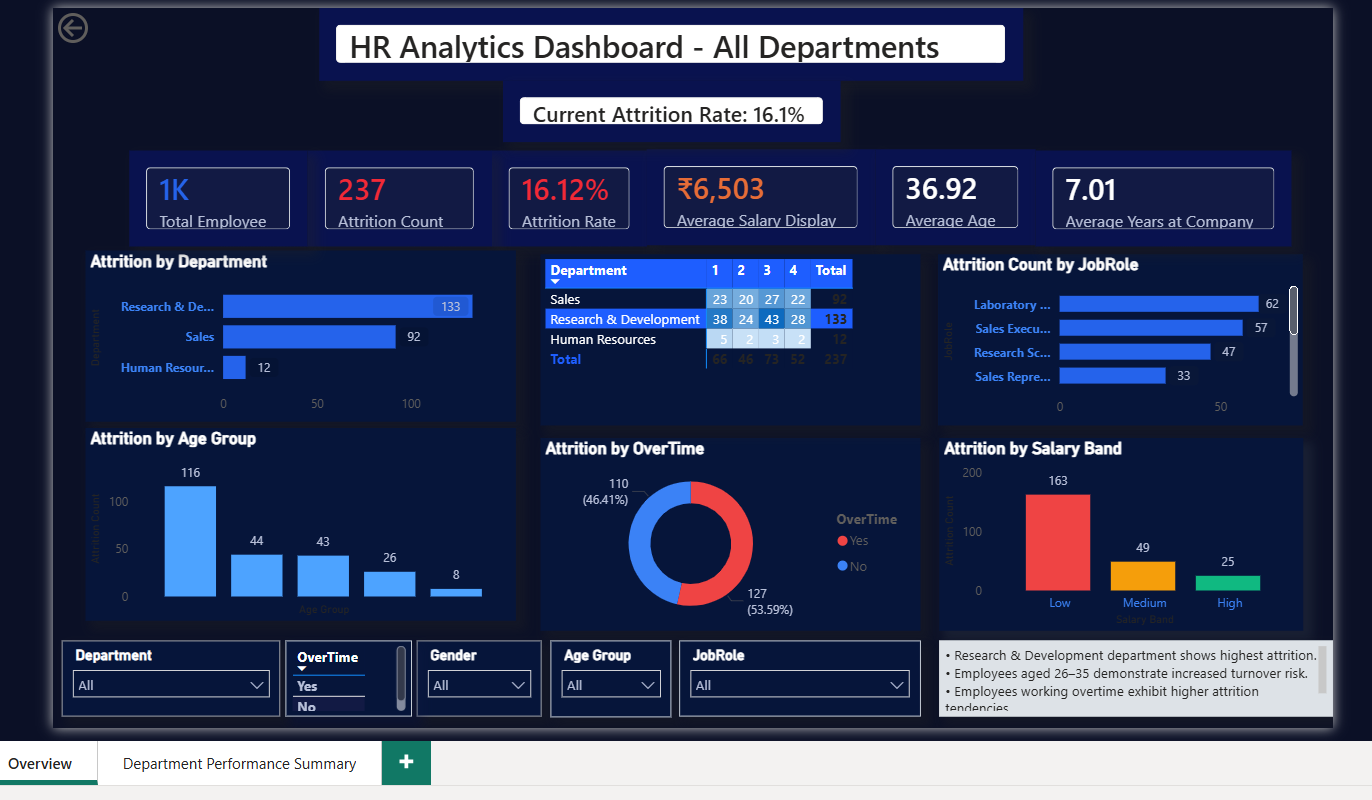

The dashboard page shown, as its layout file describes it:
{"tool":"powerbi","page":{"name":"Overview","canvas":[1280,720],"ordinal":0},"visuals":[{"type":"cardVisual","fields":{"Data":["WA_Fn-UseC_-HR-Employee-Attrition[1].Attrition Rate"]},"box":[438.8,142.5,155,96.2],"z":0},{"type":"cardVisual","fields":{"Data":["WA_Fn-UseC_-HR-Employee-Attrition[1].Attrition Count"]},"box":[255,142.5,183.8,96.2],"z":2000},{"type":"cardVisual","fields":{"Data":["WA_Fn-UseC_-HR-Employee-Attrition[1].Average Salary Display"]},"box":[593.8,141.2,167.5,96.2],"z":3000},{"type":"cardVisual","fields":{"Data":["WA_Fn-UseC_-HR-Employee-Attrition[1].Average Age"]},"box":[761.2,142.5,160,96.2],"z":4000},{"type":"clusteredBarChart","title":"Attrition by Department","fields":{"Category":["WA_Fn-UseC_-HR-Employee-Attrition[1].Department"],"Y":["WA_Fn-UseC_-HR-Employee-Attrition[1].Attrition Count"]},"box":[32.5,242.5,430,171.2],"z":5000},{"type":"clusteredBarChart","fields":{"Category":["WA_Fn-UseC_-HR-Employee-Attrition[1].JobRole"],"Y":["WA_Fn-UseC_-HR-Employee-Attrition[1].Attrition Count"]},"box":[885,246.2,365,171.2],"z":6000},{"type":"clusteredColumnChart","title":"Attrition by Age Group","fields":{"Category":["WA_Fn-UseC_-HR-Employee-Attrition[1].Age Group"],"Y":["WA_Fn-UseC_-HR-Employee-Attrition[1].Attrition Count"]},"box":[32.5,420,430,192.5],"z":7000},{"type":"pieChart","title":"Attrition by OverTime","fields":{"Y":["WA_Fn-UseC_-HR-Employee-Attrition[1].Attrition Count"],"Category":["WA_Fn-UseC_-HR-Employee-Attrition[1].OverTime"]},"box":[487.5,430,380,192.5],"z":8000},{"type":"columnChart","title":"Attrition by Salary Band","fields":{"Category":["WA_Fn-UseC_-HR-Employee-Attrition[1].Salary Band"],"Y":["WA_Fn-UseC_-HR-Employee-Attrition[1].Attrition Count"]},"box":[886.2,430,363.8,192.5],"z":9000},{"type":"pivotTable","fields":{"Columns":["WA_Fn-UseC_-HR-Employee-Attrition[1].JobSatisfaction"],"Values":["WA_Fn-UseC_-HR-Employee-Attrition[1].Attrition Count"],"Rows":["WA_Fn-UseC_-HR-Employee-Attrition[1].Department"]},"box":[487.5,246.2,380,171.2],"z":10000},{"type":"slicer","fields":{"Values":["WA_Fn-UseC_-HR-Employee-Attrition[1].Department"]},"box":[8.8,632.5,218.8,76.2],"z":11000},{"type":"slicer","fields":{"Values":["WA_Fn-UseC_-HR-Employee-Attrition[1].Gender"]},"box":[363.8,632.5,125,76.2],"z":12000},{"type":"slicer","fields":{"Values":["WA_Fn-UseC_-HR-Employee-Attrition[1].Age Group"]},"box":[497.5,632.1,121,76.5],"z":13000},{"type":"slicer","fields":{"Values":["WA_Fn-UseC_-HR-Employee-Attrition[1].JobRole"]},"box":[626.2,632.5,241.2,76.2],"z":14000},{"type":"tableEx","fields":{"Values":["WA_Fn-UseC_-HR-Employee-Attrition[1].OverTime"]},"box":[232.5,632.5,126.2,76.2],"z":15000},{"type":"textbox","box":[886.2,632.5,393.8,76.2],"z":16000},{"type":"cardVisual","fields":{"Data":["WA_Fn-UseC_-HR-Employee-Attrition[1].Department Title"]},"box":[266.2,0,703.8,72.5],"z":17000},{"type":"actionButton","box":[0,0,100,40],"z":18000},{"type":"cardVisual","fields":{"Data":["WA_Fn-UseC_-HR-Employee-Attrition[1].Current Attrition Rate"]},"box":[450,72.5,337.5,61.2],"z":19000},{"type":"cardVisual","fields":{"Data":["WA_Fn-UseC_-HR-Employee-Attrition[1].Average Years at Company"]},"box":[921.2,142.5,256.2,96.2],"z":20000},{"type":"cardVisual","fields":{"Data":["WA_Fn-UseC_-HR-Employee-Attrition[1].Total Employee"]},"box":[76.2,142.5,178.8,96.2],"z":22000}]}

Visuals, with their boxes on the page's 1280x720 design canvas (x1, y1, x2, y2). These are canvas units, not pixel positions in the 1372x800 screenshot, which may show the page scaled, cropped or inside an application window:
cardVisual - WA_Fn-UseC_-HR-Employee-Attrition[1].Attrition Rate: l=439, t=142, r=594, b=239
cardVisual - WA_Fn-UseC_-HR-Employee-Attrition[1].Attrition Count: l=255, t=142, r=439, b=239
cardVisual - WA_Fn-UseC_-HR-Employee-Attrition[1].Average Salary Display: l=594, t=141, r=761, b=237
cardVisual - WA_Fn-UseC_-HR-Employee-Attrition[1].Average Age: l=761, t=142, r=921, b=239
"Attrition by Department" clusteredBarChart: l=32, t=242, r=462, b=414
clusteredBarChart - WA_Fn-UseC_-HR-Employee-Attrition[1].JobRole x WA_Fn-UseC_-HR-Employee-Attrition[1].Attrition Count: l=885, t=246, r=1250, b=417
"Attrition by Age Group" clusteredColumnChart: l=32, t=420, r=462, b=612
"Attrition by OverTime" pieChart: l=488, t=430, r=868, b=622
"Attrition by Salary Band" columnChart: l=886, t=430, r=1250, b=622
pivotTable - WA_Fn-UseC_-HR-Employee-Attrition[1].JobSatisfaction x WA_Fn-UseC_-HR-Employee-Attrition[1].Attrition Count: l=488, t=246, r=868, b=417
slicer - WA_Fn-UseC_-HR-Employee-Attrition[1].Department: l=9, t=632, r=228, b=709
slicer - WA_Fn-UseC_-HR-Employee-Attrition[1].Gender: l=364, t=632, r=489, b=709
slicer - WA_Fn-UseC_-HR-Employee-Attrition[1].Age Group: l=498, t=632, r=618, b=709
slicer - WA_Fn-UseC_-HR-Employee-Attrition[1].JobRole: l=626, t=632, r=867, b=709
tableEx - WA_Fn-UseC_-HR-Employee-Attrition[1].OverTime: l=232, t=632, r=359, b=709
textbox: l=886, t=632, r=1280, b=709
cardVisual - WA_Fn-UseC_-HR-Employee-Attrition[1].Department Title: l=266, t=0, r=970, b=72
actionButton: l=0, t=0, r=100, b=40
cardVisual - WA_Fn-UseC_-HR-Employee-Attrition[1].Current Attrition Rate: l=450, t=72, r=788, b=134
cardVisual - WA_Fn-UseC_-HR-Employee-Attrition[1].Average Years at Company: l=921, t=142, r=1177, b=239
cardVisual - WA_Fn-UseC_-HR-Employee-Attrition[1].Total Employee: l=76, t=142, r=255, b=239
